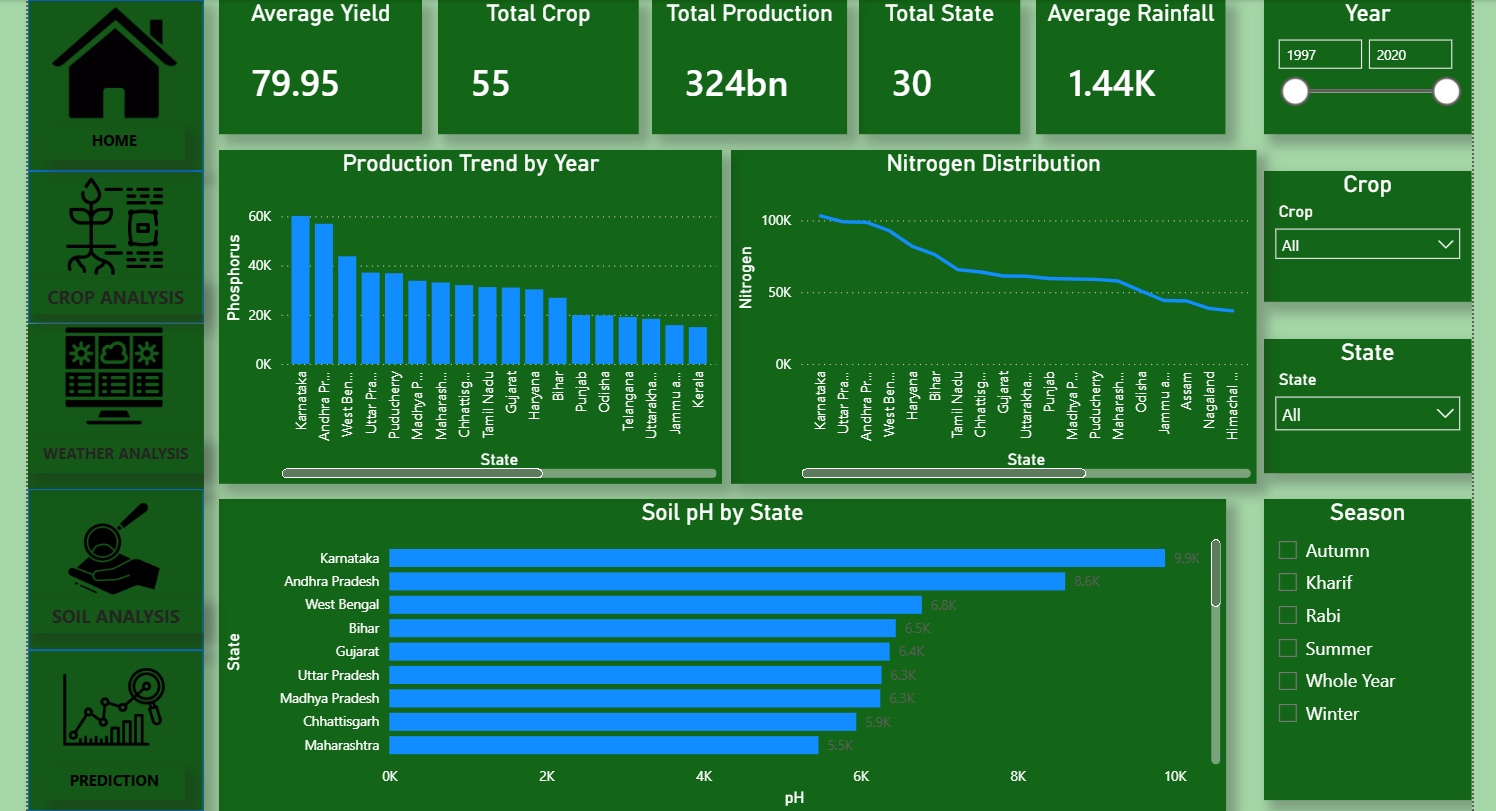

What the dashboard file says about the page in this screenshot:
{"tool":"powerbi","page":{"name":"Soil Analysis","canvas":[1280,720],"ordinal":3},"visuals":[{"type":"cardVisual","title":"Average Yield","fields":{"Data":["final_df.Average Yield"]},"box":[169.2,0,179.9,118.7],"z":0},{"type":"cardVisual","title":"Average Rainfall","fields":{"Data":["final_df.Average Rainfall"]},"box":[893.9,0,168.3,118.7],"z":1000},{"type":"cardVisual","title":"Total State","fields":{"Data":["final_df.Total State"]},"box":[737.3,0,143,118.7],"z":2000},{"type":"cardVisual","title":"Total Crop","fields":{"Data":["final_df.Total Crop"]},"box":[363.8,0,178,118.7],"z":3000},{"type":"cardVisual","title":"Total Production","fields":{"Data":["final_df.Total Production"]},"box":[553.4,0,173.1,118.7],"z":4000},{"type":"slicer","title":"Crop","fields":{"Values":["final_df.Crop"]},"box":[1096.2,151.7,183.8,115.7],"z":5000},{"type":"clusteredBarChart","title":"Soil pH by State","fields":{"Category":["final_df.State"],"Y":["Sum(final_df.pH)"]},"box":[169.2,442.6,892.9,277.2],"z":6000},{"type":"slicer","title":"State","fields":{"Values":["final_df.State"]},"box":[1096.2,300.5,183.8,118.7],"z":7000},{"type":"slicer","title":"Year","fields":{"Values":["final_df.Year"]},"box":[1096.2,0,183.8,118.7],"z":8000},{"type":"slicer","title":"Season","fields":{"Values":["final_df.Season"]},"box":[1096.2,442.6,183.8,266.5],"z":9000},{"type":"lineChart","title":"Nitrogen Distribution","fields":{"Category":["final_df.State"],"Y":["Sum(final_df.N)"]},"box":[623.5,133.3,465.9,295.7],"z":10000},{"type":"shape","box":[0,0,155.6,151.7],"z":11000},{"type":"shape","box":[0,151.7,155.6,135.2],"z":12000},{"type":"shape","box":[0,286.9,155.6,146.9],"z":13000},{"type":"shape","box":[0,433.8,155.6,143],"z":14000},{"type":"shape","box":[0,576.8,155.6,143],"z":15000},{"type":"image","box":[13.6,0,127.4,110.9],"z":16000},{"type":"image","box":[13.6,151.7,126.4,95.3],"z":17000},{"type":"image","box":[13.6,286.9,126.4,92.4],"z":18000},{"type":"image","box":[13.6,442.6,126.4,87.5],"z":19000},{"type":"image","box":[13.6,581.6,126.4,90.5],"z":20000},{"type":"textbox","box":[13.6,110.9,126.4,31.1],"z":21000},{"type":"textbox","box":[13.6,677.9,126.4,31.1],"z":22000},{"type":"textbox","box":[0,247.1,155.6,31.1],"z":23000},{"type":"textbox","box":[0,530.1,155.6,31.1],"z":24000},{"type":"textbox","box":[0,388.1,155.6,31.1],"z":25000},{"type":"columnChart","title":"Production Trend by Year","fields":{"Category":["final_df.State"],"Y":["Sum(final_df.P)"]},"box":[169.2,133.3,446.4,295.7],"z":26000}]}

Visuals, with their boxes on the page's 1280x720 design canvas (x1, y1, x2, y2). These are canvas units, not pixel positions in the 1496x811 screenshot, which may show the page scaled, cropped or inside an application window:
"Average Yield" cardVisual: crop(169, 0, 349, 119)
"Average Rainfall" cardVisual: crop(894, 0, 1062, 119)
"Total State" cardVisual: crop(737, 0, 880, 119)
"Total Crop" cardVisual: crop(364, 0, 542, 119)
"Total Production" cardVisual: crop(553, 0, 726, 119)
"Crop" slicer: crop(1096, 152, 1280, 267)
"Soil pH by State" clusteredBarChart: crop(169, 443, 1062, 720)
"State" slicer: crop(1096, 300, 1280, 419)
"Year" slicer: crop(1096, 0, 1280, 119)
"Season" slicer: crop(1096, 443, 1280, 709)
"Nitrogen Distribution" lineChart: crop(624, 133, 1089, 429)
shape: crop(0, 0, 156, 152)
shape: crop(0, 152, 156, 287)
shape: crop(0, 287, 156, 434)
shape: crop(0, 434, 156, 577)
shape: crop(0, 577, 156, 720)
image: crop(14, 0, 141, 111)
image: crop(14, 152, 140, 247)
image: crop(14, 287, 140, 379)
image: crop(14, 443, 140, 530)
image: crop(14, 582, 140, 672)
textbox: crop(14, 111, 140, 142)
textbox: crop(14, 678, 140, 709)
textbox: crop(0, 247, 156, 278)
textbox: crop(0, 530, 156, 561)
textbox: crop(0, 388, 156, 419)
"Production Trend by Year" columnChart: crop(169, 133, 616, 429)
